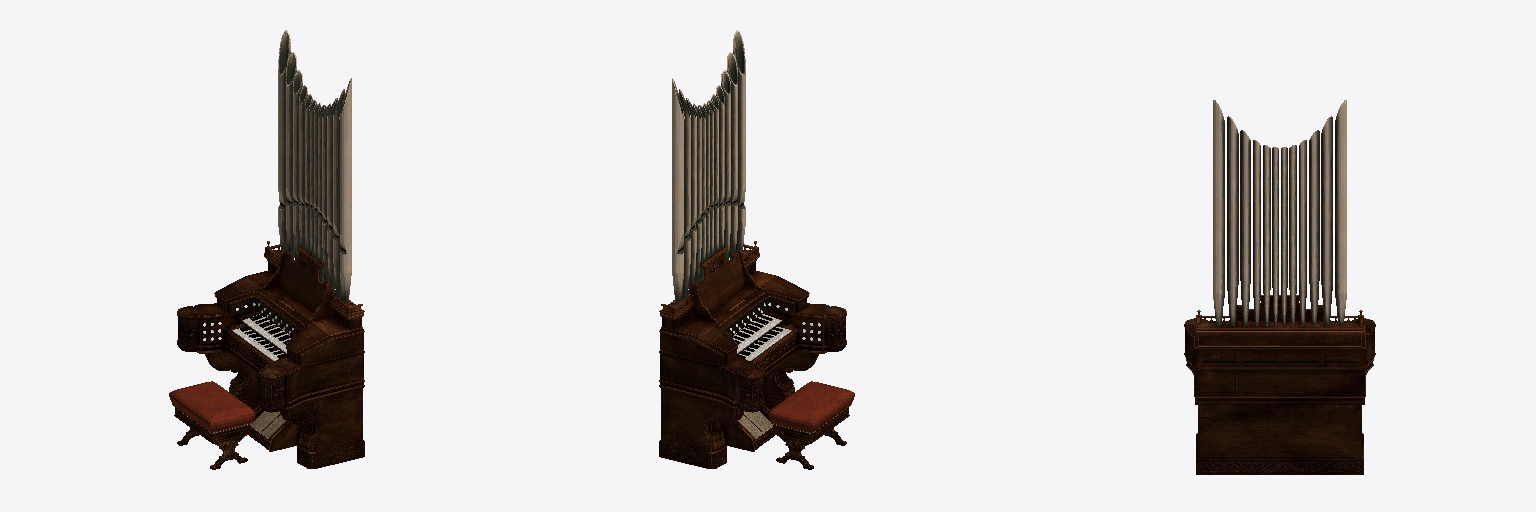
The picture shows the model from 3 angles: view 1: azimuth 30°, elevation 25°; view 2: azimuth 150°, elevation 25°; view 3: azimuth 270°, elevation 25°; orthographic projection.
Visible parts, largest first — view 1: Object_Organ_mat, Object_Stool_mat; view 2: Object_Organ_mat, Object_Stool_mat; view 3: Object_Organ_mat.
Part boxes in pixels (left/top/right/bottom): Object_Organ_mat: left=177, top=30, right=364, bottom=468; Object_Stool_mat: left=169, top=381, right=254, bottom=469; Object_Organ_mat: left=659, top=30, right=846, bottom=468; Object_Stool_mat: left=769, top=381, right=854, bottom=469; Object_Organ_mat: left=1184, top=100, right=1375, bottom=474.
Bounding box in the file's own units: 0.937 × 2.5 × 1.16.
2 materials, 2 textured.